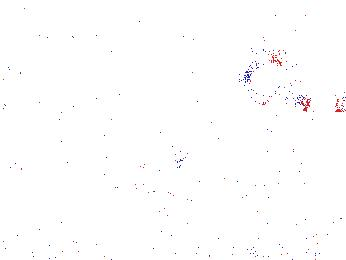flame jellyfish: (238, 59, 311, 112), (153, 170, 214, 228), (133, 149, 190, 202)
